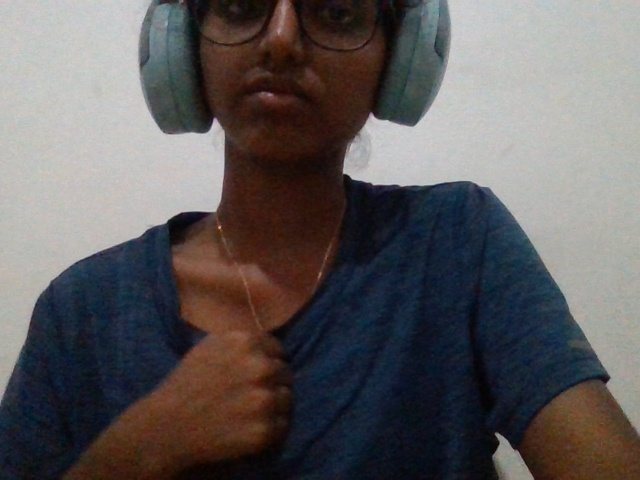Sorry: (88, 298, 306, 480)
